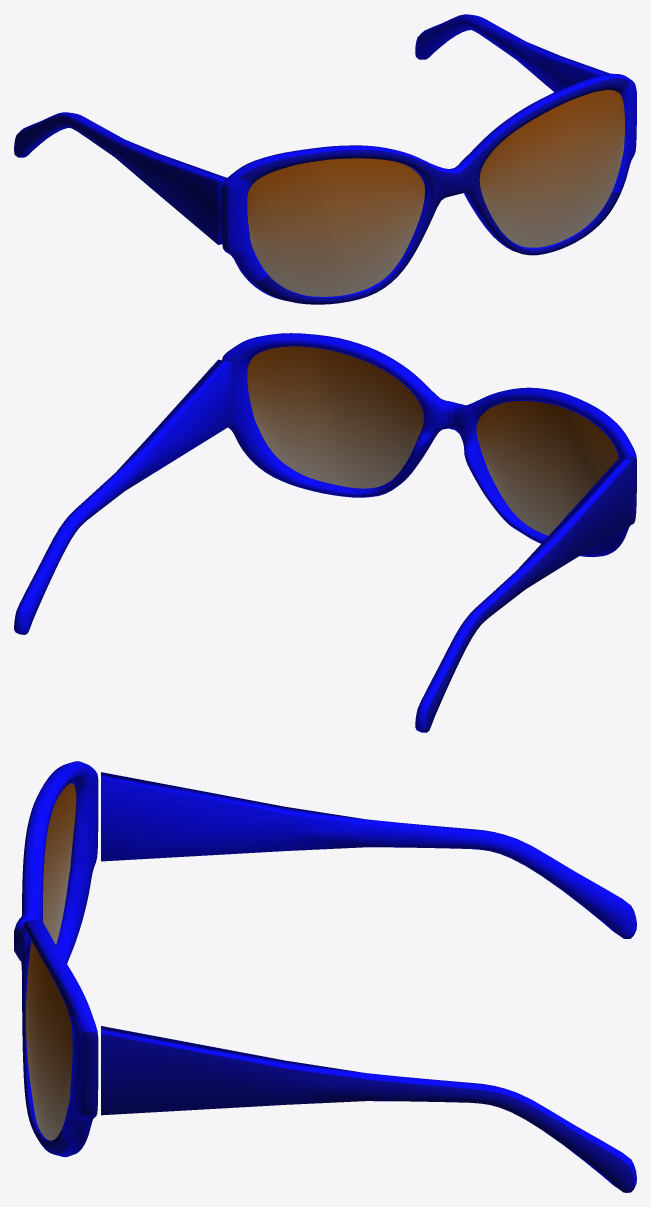
File: blueglasses.obj
3 renders of one model, top to bottom at view 1: azimuth 30°, elevation 25°; view 2: azimuth 150°, elevation 25°; view 3: azimuth 270°, elevation 25°, orthographic. The views are drawn at different scales.
Bounding box in the file's own units: 38.98 × 13.99 × 39.16.
4 materials, 1 textured.
